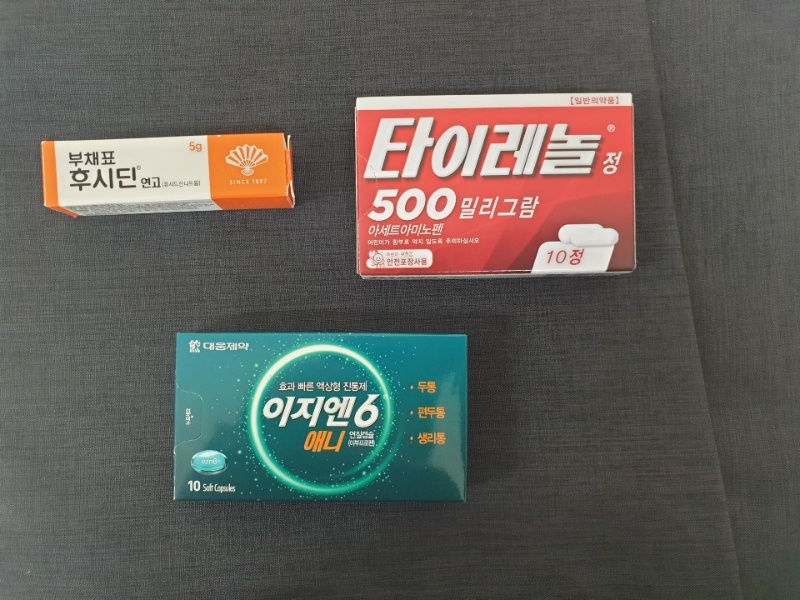ezn: (175, 332, 470, 505)
fucidin: (39, 136, 300, 213)
tylenol: (353, 95, 637, 274)
